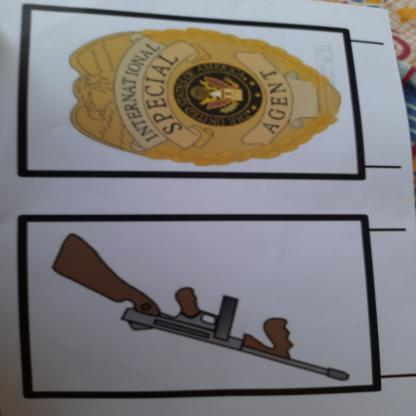Bootlegger: (51, 227, 373, 399)
G-man: (52, 15, 349, 176)
